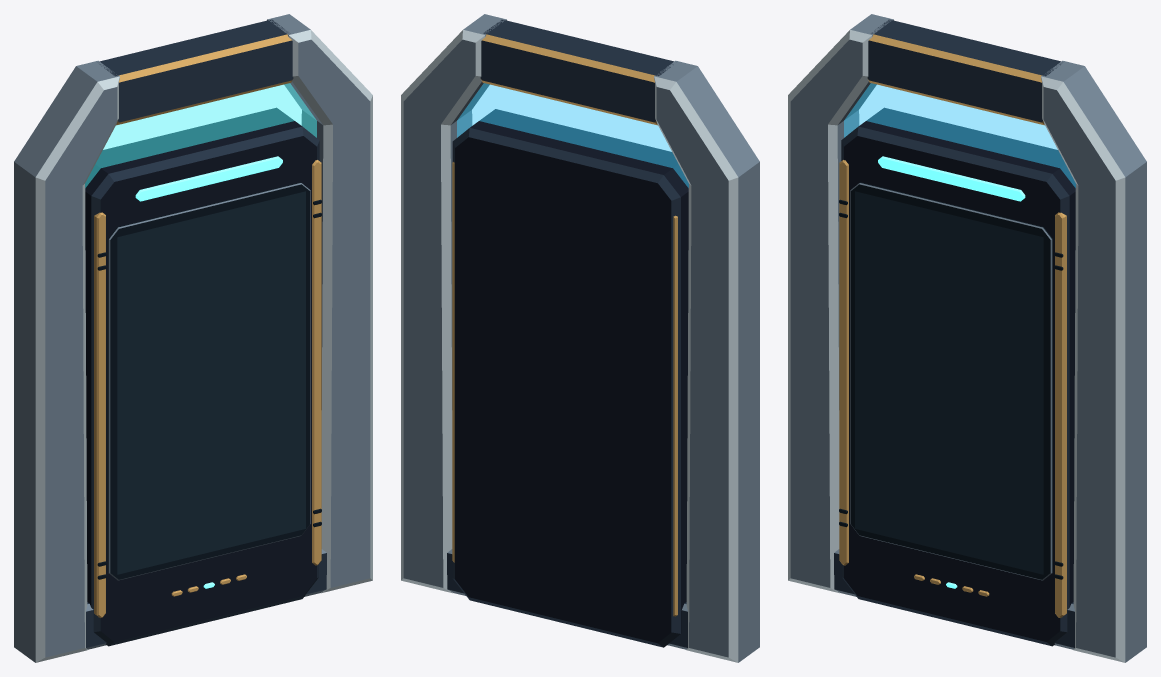
The model's file is domino-arc.glb.
The picture shows the model from 3 angles, left to right: view 1: azimuth 30°, elevation 25°; view 2: azimuth 150°, elevation 25°; view 3: azimuth 330°, elevation 25°; orthographic projection.
Visible parts, largest first — view 1: ShieldGate, ScreenSurface, DominoUnit, ShieldCore, TopBar; view 2: DominoUnit, ShieldGate, ShieldCore; view 3: ShieldGate, ScreenSurface, DominoUnit, ShieldCore, TopBar.
Boxes of the visible parts, <box> form: ShieldGate: <box>14,14,372,662</box>; ScreenSurface: <box>117,191,305,574</box>; DominoUnit: <box>85,107,321,646</box>; ShieldCore: <box>85,83,316,187</box>; TopBar: <box>135,156,282,201</box>; DominoUnit: <box>452,109,688,647</box>; ShieldGate: <box>401,14,759,662</box>; ShieldCore: <box>457,83,688,187</box>; ShieldGate: <box>788,14,1146,662</box>; ScreenSurface: <box>855,191,1043,574</box>; DominoUnit: <box>839,107,1075,646</box>; ShieldCore: <box>844,83,1075,187</box>; TopBar: <box>878,156,1025,201</box>.
Bounding box in the file's own units: 1.36 × 2.18 × 0.246.
